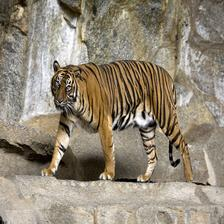tiger: (51, 54, 201, 187)
